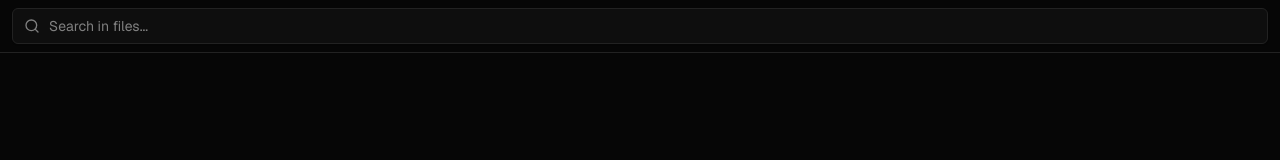
it: ContentSearch › Search results › should show "no results" message when empty
Step 1. Type "nonexistent" into the field with placeholder "Search in files..." → (640, 26), box [12, 8, 1268, 44]
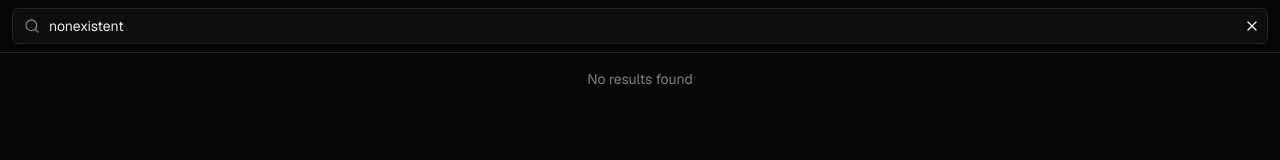
Now the text "No results found" is shown, box [587, 70, 693, 88]
